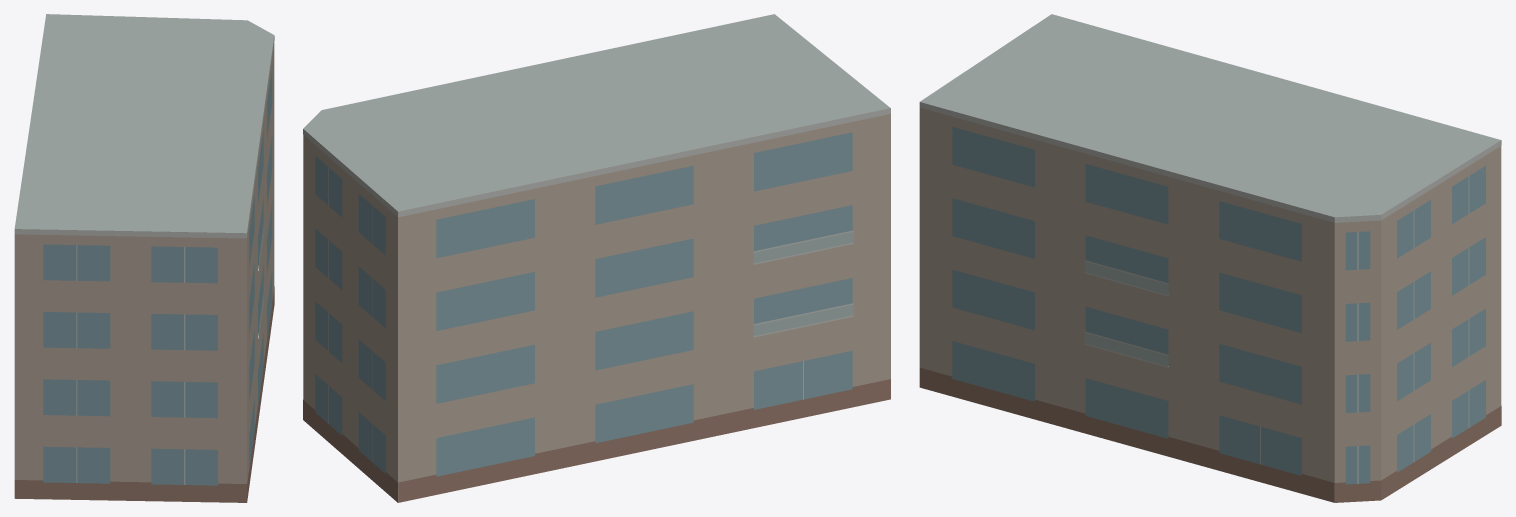
The model's file is survey-upis-32725015.glb.
3 renders of one model, left to right at view 1: azimuth 30°, elevation 25°; view 2: azimuth 150°, elevation 25°; view 3: azimuth 270°, elevation 25°, orthographic. The views are drawn at different scales.
Visible parts, largest first — view 1: survey-upis-32725015.tmp; view 2: survey-upis-32725015.tmp; view 3: survey-upis-32725015.tmp.
Part boxes in pixels (box(x1,y1,x2,y2)): survey-upis-32725015.tmp: box(14, 14, 274, 502); survey-upis-32725015.tmp: box(303, 14, 890, 502); survey-upis-32725015.tmp: box(919, 14, 1501, 502).
Size of the model in its own units: 18.94 by 12.4 by 22.91.
